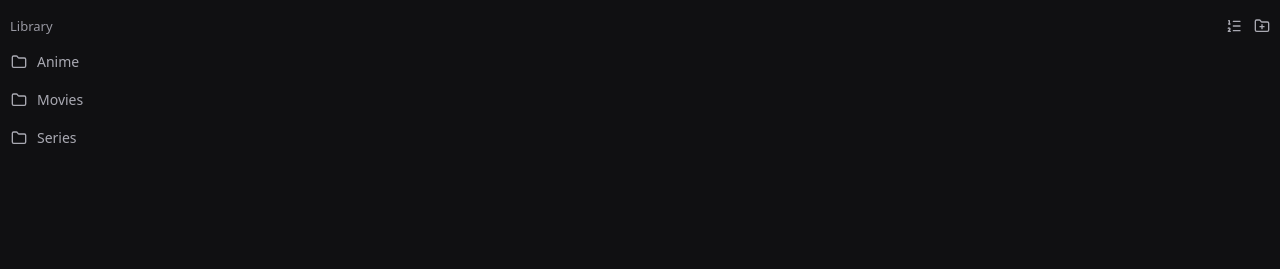
library folder sort menu › shows the saved mode custom as Custom order
The image size is (1280, 269).
Click the button named "Sort folders: Custom order": (1234, 26) [1220,12,1248,40]
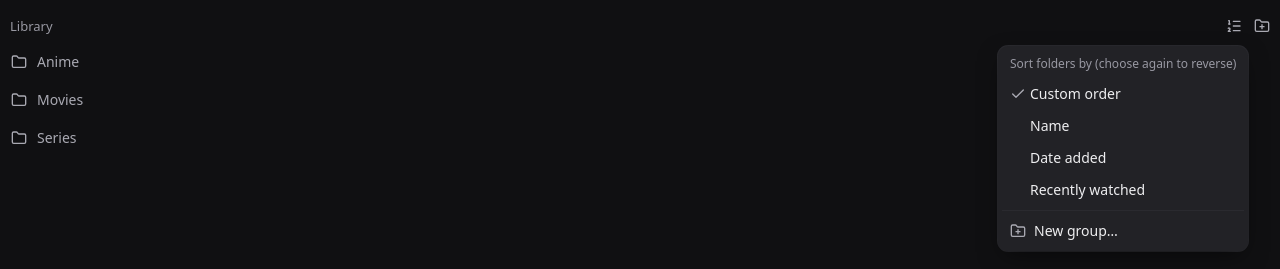
Check: the menu shows "Sort folders by (choose again to reverse)", box [1010,55,1236,72]
